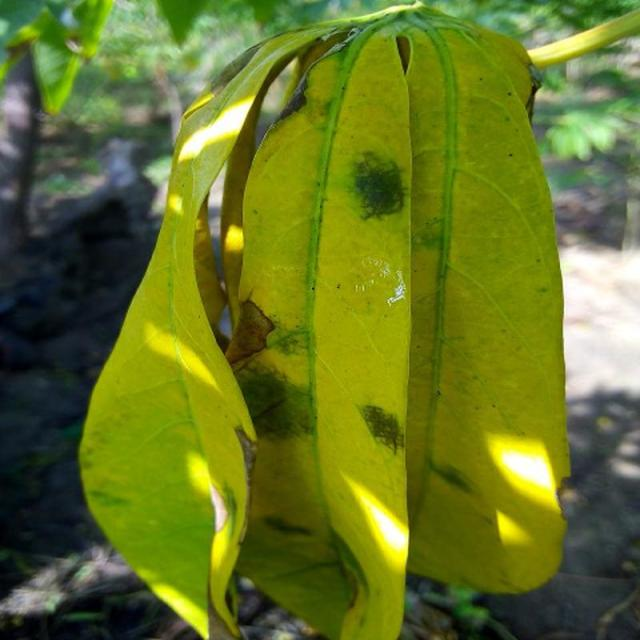cassava leaf: (78, 3, 573, 638)
